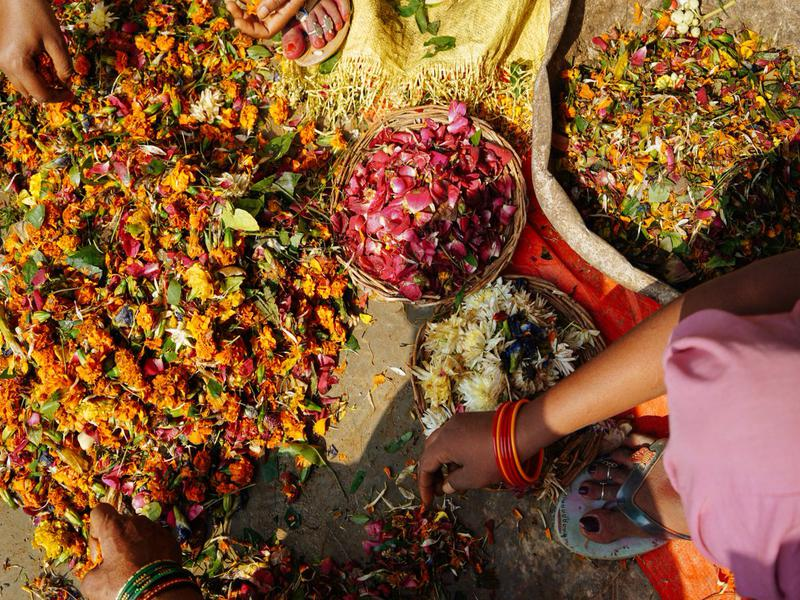flowers: (1, 107, 348, 497), (547, 1, 799, 250), (336, 102, 518, 304), (211, 510, 514, 600), (403, 283, 525, 403)
